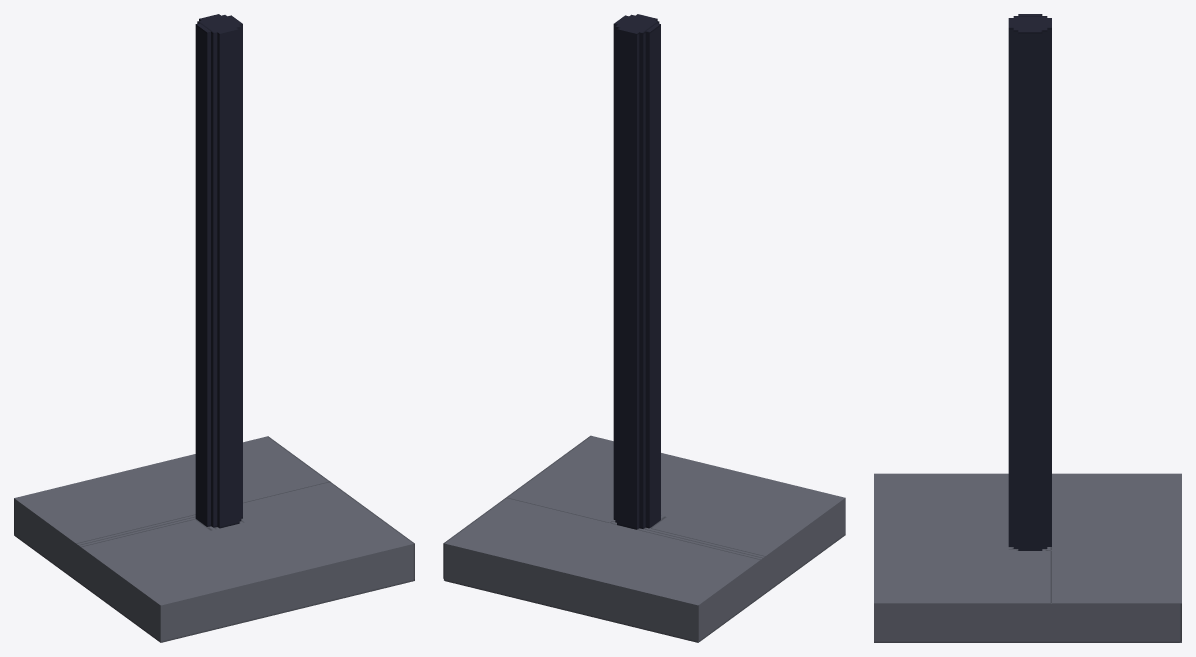
The model's file is pol.dae.
3 renders of one model, left to right at view 1: azimuth 30°, elevation 25°; view 2: azimuth 150°, elevation 25°; view 3: azimuth 270°, elevation 25°, orthographic. The views are drawn at different scales.
Parts seen in each view (by area): view 1: Content; view 2: Content; view 3: Content.
Boxes of the visible parts, x1,y1,x2,y2 form: Content: [14, 14, 414, 642]; Content: [443, 14, 845, 642]; Content: [874, 14, 1181, 642].
Bounding box in the file's own units: 64 × 128 × 64.
1 material, 1 textured.
